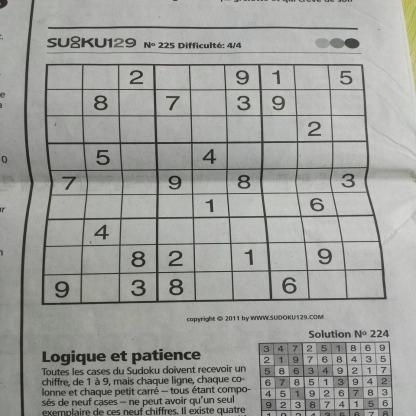sudoku: (36, 60, 392, 309)
